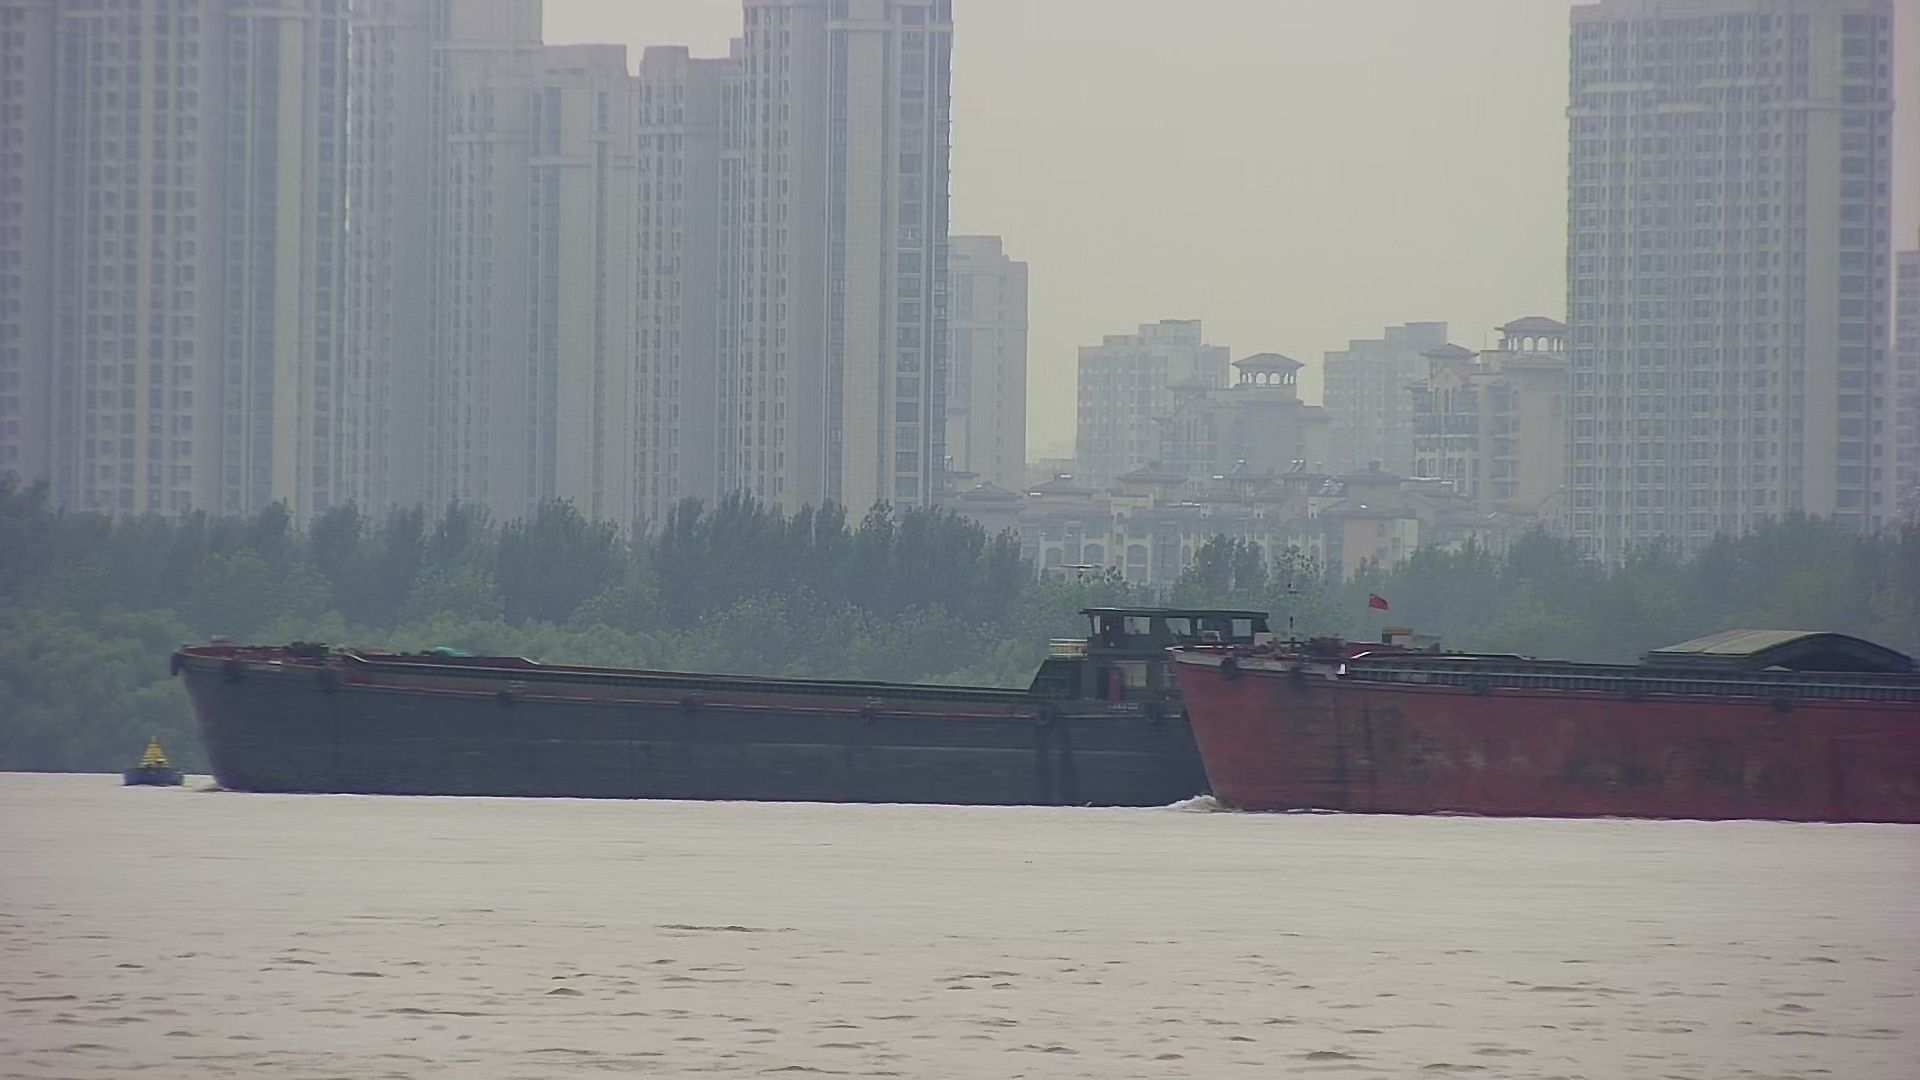boat: (123, 728, 186, 790)
ship: (171, 592, 1309, 814), (1164, 585, 1920, 825)
